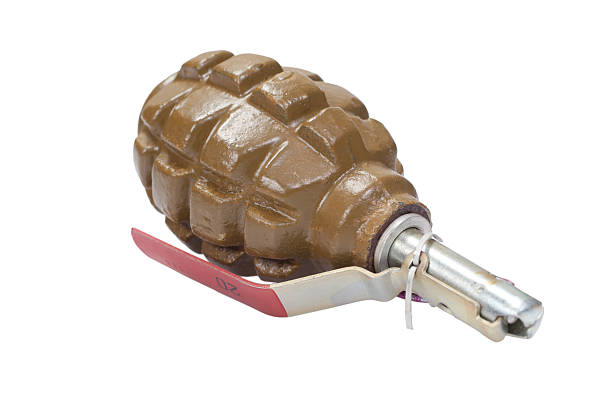e1: (127, 48, 548, 352)
